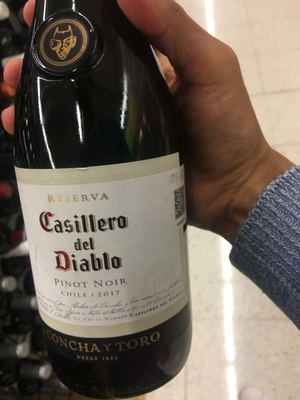casillero del diablo pinot noir: (16, 25, 205, 379)
